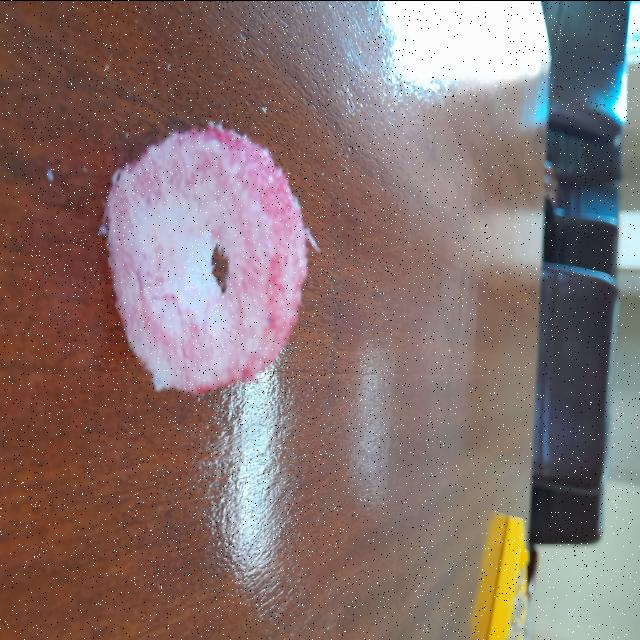wheel: (98, 117, 310, 393)
